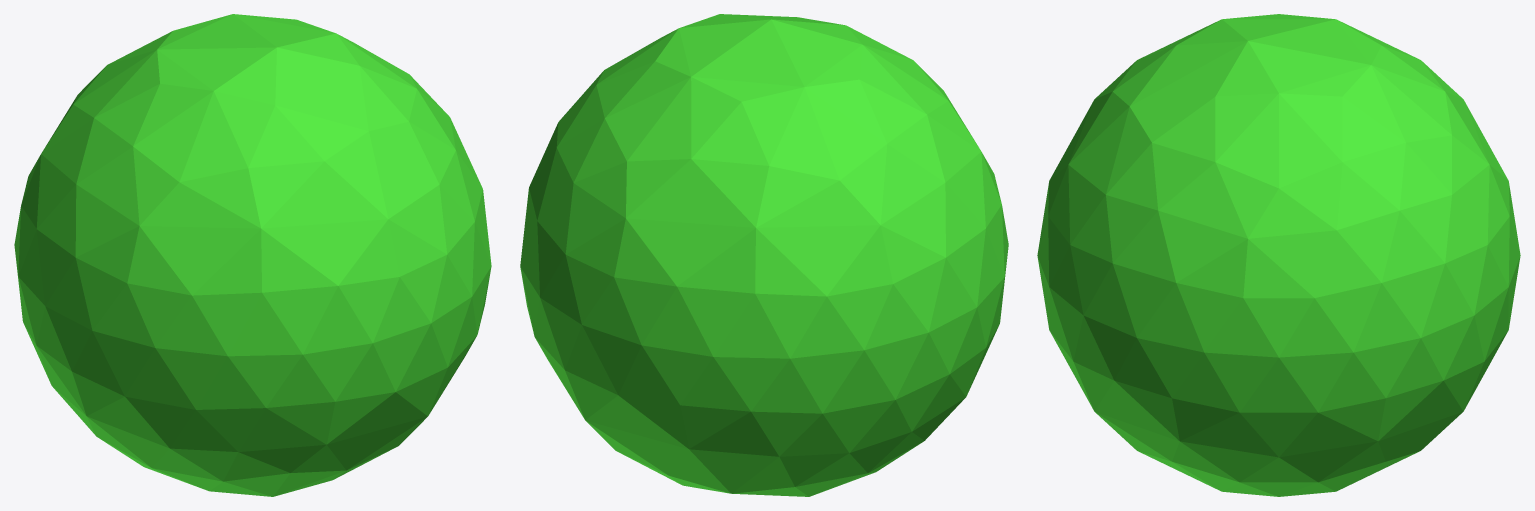
Rendered from ball3.fbx.
The picture shows the model from 3 angles, left to right: view 1: azimuth 30°, elevation 25°; view 2: azimuth 150°, elevation 25°; view 3: azimuth 270°, elevation 25°; orthographic projection. The views are drawn at different scales.
Parts seen in each view (by area): view 1: Icosphere.001; view 2: Icosphere.001; view 3: Icosphere.001.
Boxes of the visible parts, <box> form: Icosphere.001: <box>14,14,491,496</box>; Icosphere.001: <box>520,14,1008,496</box>; Icosphere.001: <box>1037,14,1520,496</box>.
Size of the model in its own units: 200 by 200 by 200.
